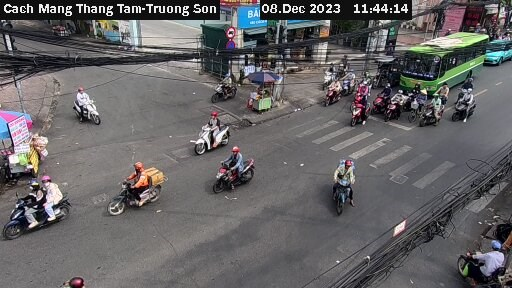bus: (399, 30, 489, 89)
car: (487, 36, 512, 64)
motorbike: (4, 187, 68, 240), (103, 169, 169, 215), (329, 156, 367, 215), (457, 237, 504, 282), (212, 154, 259, 194), (191, 118, 235, 152), (71, 89, 107, 126), (452, 89, 488, 126), (420, 97, 450, 127), (209, 74, 239, 102), (347, 93, 372, 125), (319, 79, 345, 103), (387, 93, 406, 120), (317, 65, 340, 86), (373, 87, 392, 111)
